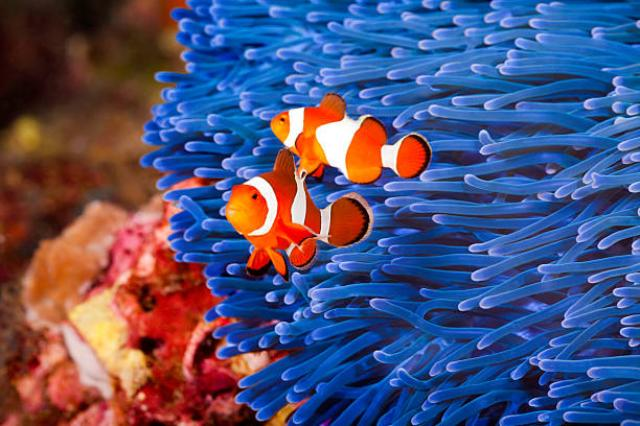Mulut: (338, 158, 388, 194), (216, 198, 250, 232), (251, 106, 287, 138)
Sirip Ekor: (326, 189, 376, 263), (387, 116, 435, 186)
Sirip Perut: (238, 245, 296, 285)
Sirip Punggung: (314, 88, 392, 148), (263, 138, 317, 190)
